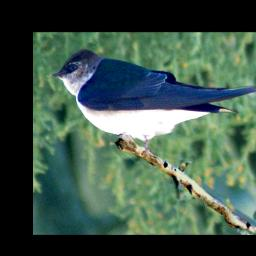Swallow: (49, 49, 256, 159)
